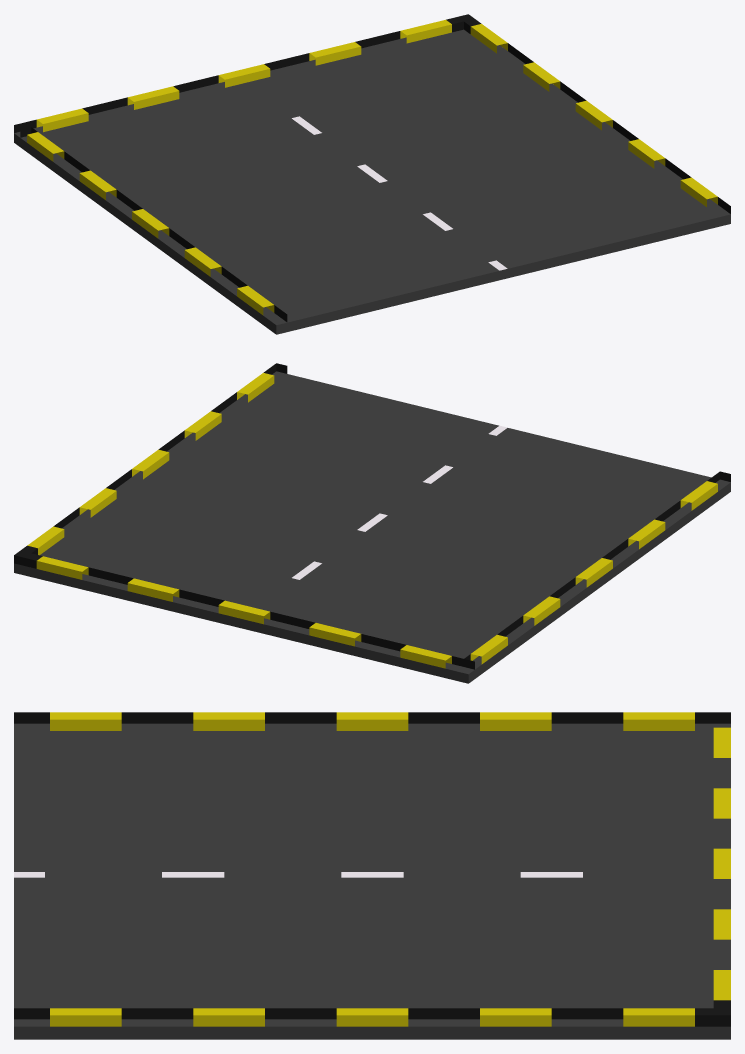
The model's file is end.glb.
The picture shows the model from 3 angles, top to bottom: view 1: azimuth 30°, elevation 25°; view 2: azimuth 150°, elevation 25°; view 3: azimuth 270°, elevation 25°; orthographic projection. The views are drawn at different scales.
Visible parts, largest first — view 1: End; view 2: End; view 3: End.
Part boxes in pixels (x1,y1,x2,y2): End: (14,14,730,334); End: (14,363,730,683); End: (14,712,730,1039).
Bounding box in the file's own units: 2 × 0.0741 × 2.
